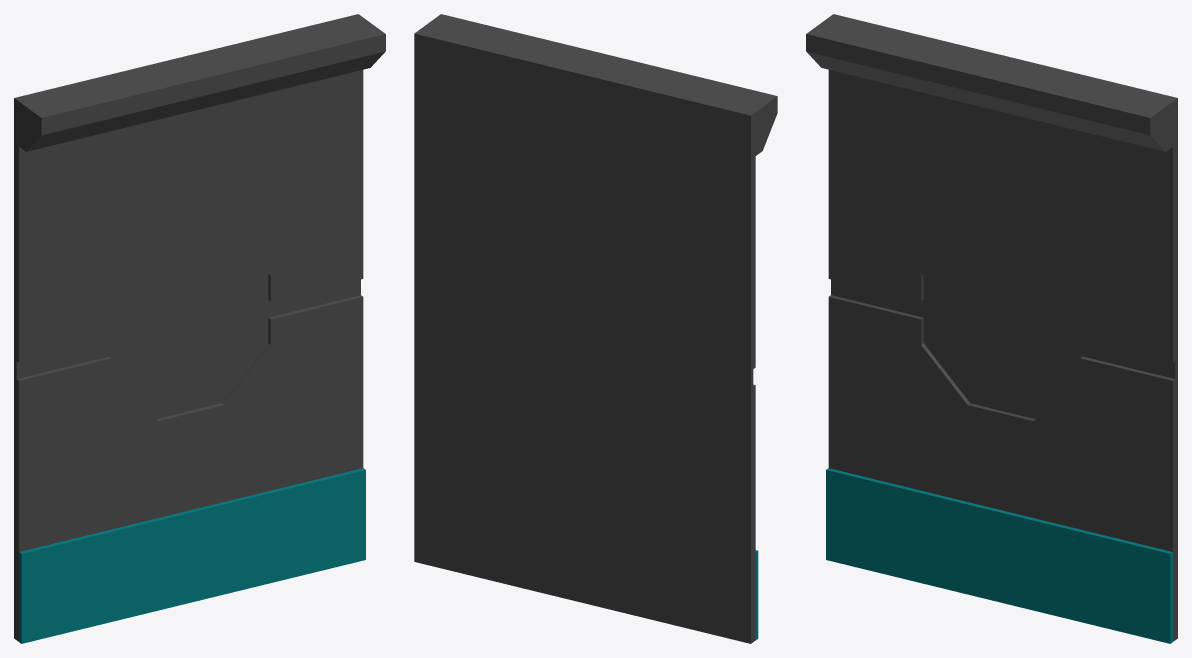
File: sci-fi-wall-3-by-dipper98-LYWHc2jkDA.glb
3 views of the same model, side by side, from view 1: azimuth 30°, elevation 25°; view 2: azimuth 150°, elevation 25°; view 3: azimuth 330°, elevation 25° (orthographic). The views are drawn at different scales.
Visible parts, largest first — view 1: Wall, Wall_Panel, Triangle_Connecter; view 2: Wall, Triangle_Connecter; view 3: Wall, Wall_Panel, Triangle_Connecter.
Boxes of the visible parts, x1=… form: Wall: x1=14, y1=14, x2=363, y2=641; Wall_Panel: x1=19, y1=468, x2=365, y2=643; Triangle_Connecter: x1=16, y1=16, x2=385, y2=151; Wall: x1=414, y1=30, x2=755, y2=643; Triangle_Connecter: x1=418, y1=14, x2=777, y2=155; Wall: x1=828, y1=14, x2=1177, y2=641; Wall_Panel: x1=826, y1=468, x2=1172, y2=643; Triangle_Connecter: x1=806, y1=16, x2=1174, y2=151.
Bounding box in the file's own units: 4 × 6 × 0.55.
